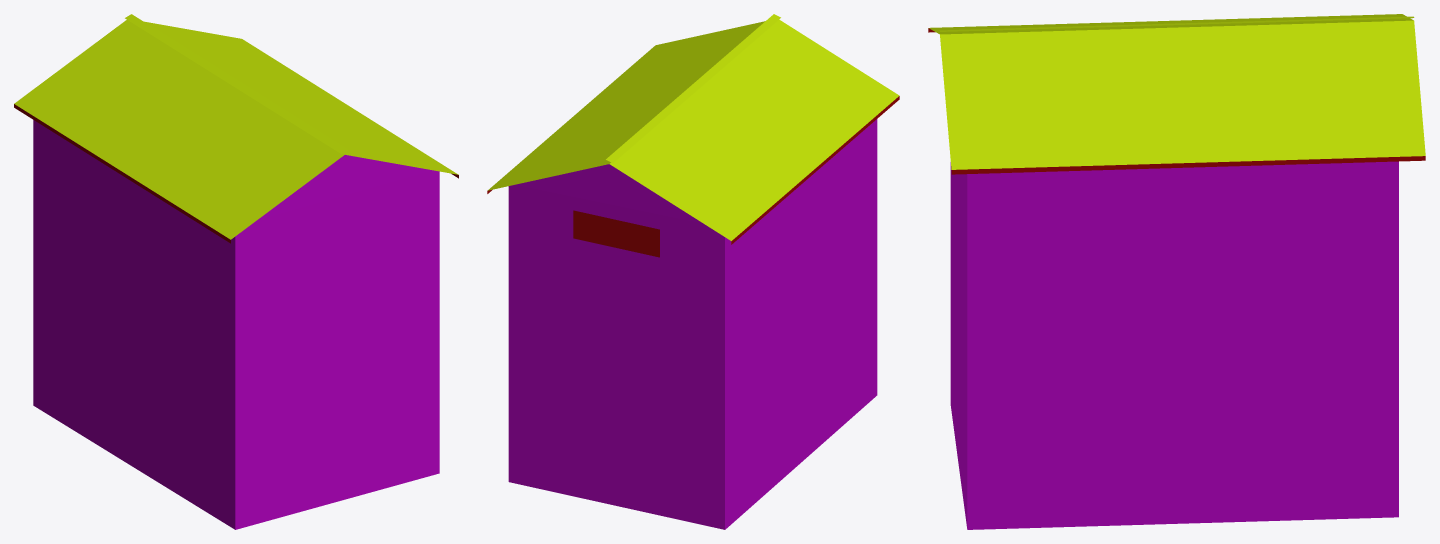
File: rmc_93.glb
3 views of the same model, side by side, from view 1: azimuth 30°, elevation 25°; view 2: azimuth 150°, elevation 25°; view 3: azimuth 270°, elevation 25° (orthographic). The views are drawn at different scales.
Visible parts, largest first — view 1: rmc_93; view 2: rmc_93; view 3: rmc_93.
Part boxes in pixels (x1,y1,x2,y2): rmc_93: [14, 14, 458, 529]; rmc_93: [487, 14, 899, 529]; rmc_93: [928, 14, 1425, 529].
Bounding box in the file's own units: 8.66 × 11.31 × 11.68.
